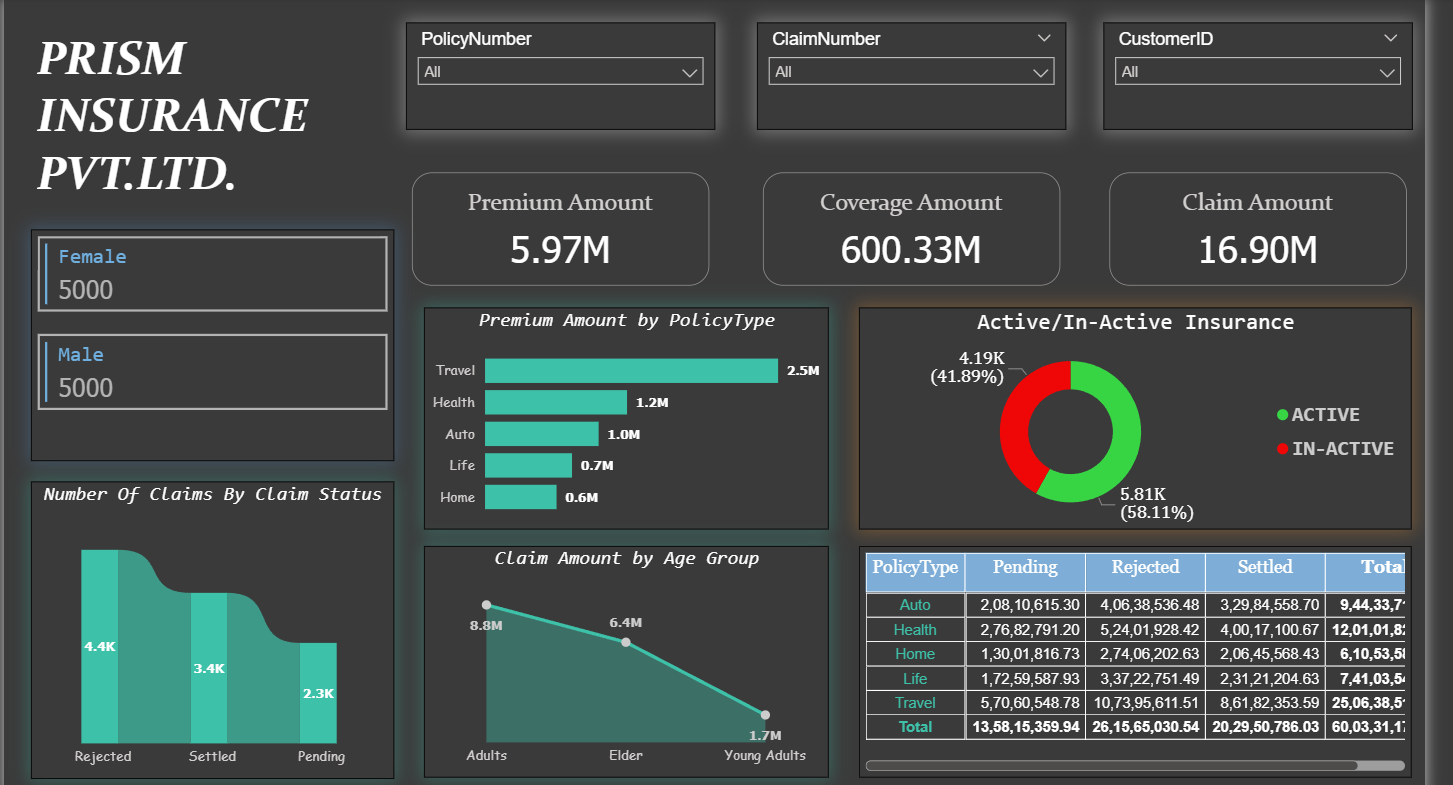

Layout of this report page (visuals, bound fields, positions):
{"tool":"powerbi","page":{"name":"Insurance_Project Power BI report","canvas":[1280,720],"ordinal":0},"visuals":[{"type":"slicer","fields":{"Values":["InsuranceData.PolicyNumber"]},"box":[361.9,22.7,278.6,96.9],"z":0},{"type":"slicer","fields":{"Values":["InsuranceData.ClaimNumber"]},"box":[678.4,22.7,278.6,96.9],"z":1000},{"type":"slicer","fields":{"Values":["InsuranceData.CustomerID"]},"box":[990.3,22.7,278.6,96.9],"z":2000},{"type":"textbox","box":[24.2,22.7,313.4,190.8],"z":3000},{"type":"cardVisual","fields":{"Data":["Sum(InsuranceData.PremiumAmount)"]},"box":[361.9,152.9,278.6,112.1],"z":4000},{"type":"cardVisual","fields":{"Data":["Sum(InsuranceData.CoverageAmount)"]},"box":[678.4,152.9,278.6,112.1],"z":5000},{"type":"cardVisual","fields":{"Data":["Sum(InsuranceData.ClaimAmount)"]},"box":[990.3,152.9,278.6,112.1],"z":6000},{"type":"multiRowCard","fields":{"Values":["InsuranceData.Gender","CountNonNull(InsuranceData.Gender)"]},"box":[24.2,227.1,327.1,209],"z":7000},{"type":"ribbonChart","title":"Number Of Claims By Claim Status","fields":{"Category":["InsuranceData.ClaimStatus"],"Y":["CountNonNull(InsuranceData.ClaimStatus)"]},"box":[24.2,436.1,327.1,268],"z":8000},{"type":"barChart","title":"Premium Amount by PolicyType","fields":{"Category":["InsuranceData.PolicyType"],"Y":["Sum(InsuranceData.PremiumAmount)"]},"box":[378.6,280.1,364.9,199.9],"z":9000},{"type":"lineChart","title":"Claim Amount by Age Group","fields":{"Category":["InsuranceData.Age Group"],"Y":["Sum(InsuranceData.ClaimAmount)"]},"box":[378.6,495.1,364.9,209],"z":10000},{"type":"donutChart","title":"Active/In-Active Insurance","fields":{"Category":["InsuranceData.ACTIVE/IN-ACTIVE"],"Y":["CountNonNull(InsuranceData.ACTIVE/IN-ACTIVE)"]},"box":[770.7,280.1,498.2,199.9],"z":11000},{"type":"pivotTable","fields":{"Rows":["InsuranceData.PolicyType"],"Columns":["InsuranceData.ClaimStatus"],"Values":["Sum(InsuranceData.CoverageAmount)"]},"box":[770.7,495.1,498.2,209],"z":12000}]}

Visuals, with their boxes on the page's 1280x720 design canvas (x1, y1, x2, y2). These are canvas units, not pixel positions in the 1453x785 screenshot, which may show the page scaled, cropped or inside an application window:
slicer - InsuranceData.PolicyNumber: select_region(362, 23, 640, 120)
slicer - InsuranceData.ClaimNumber: select_region(678, 23, 957, 120)
slicer - InsuranceData.CustomerID: select_region(990, 23, 1269, 120)
textbox: select_region(24, 23, 338, 214)
cardVisual - Sum(InsuranceData.PremiumAmount): select_region(362, 153, 640, 265)
cardVisual - Sum(InsuranceData.CoverageAmount): select_region(678, 153, 957, 265)
cardVisual - Sum(InsuranceData.ClaimAmount): select_region(990, 153, 1269, 265)
multiRowCard - InsuranceData.Gender x CountNonNull(InsuranceData.Gender): select_region(24, 227, 351, 436)
"Number Of Claims By Claim Status" ribbonChart: select_region(24, 436, 351, 704)
"Premium Amount by PolicyType" barChart: select_region(379, 280, 744, 480)
"Claim Amount by Age Group" lineChart: select_region(379, 495, 744, 704)
"Active/In-Active Insurance" donutChart: select_region(771, 280, 1269, 480)
pivotTable - InsuranceData.PolicyType x InsuranceData.ClaimStatus: select_region(771, 495, 1269, 704)
